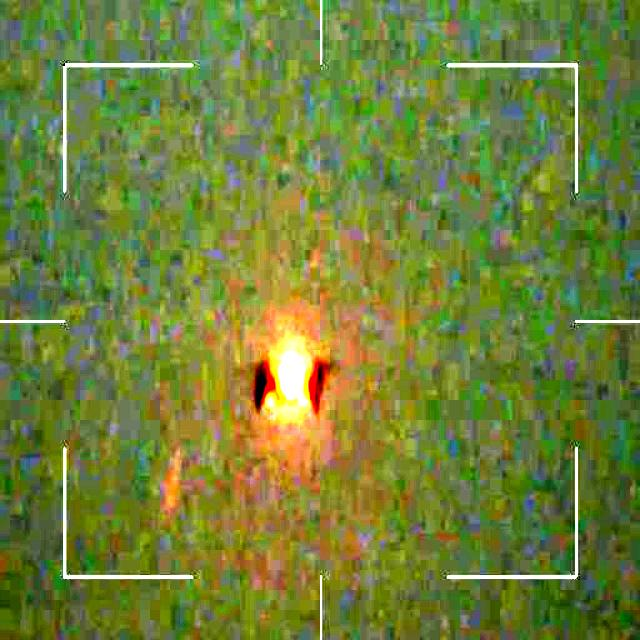bird: (252, 338, 331, 414)
